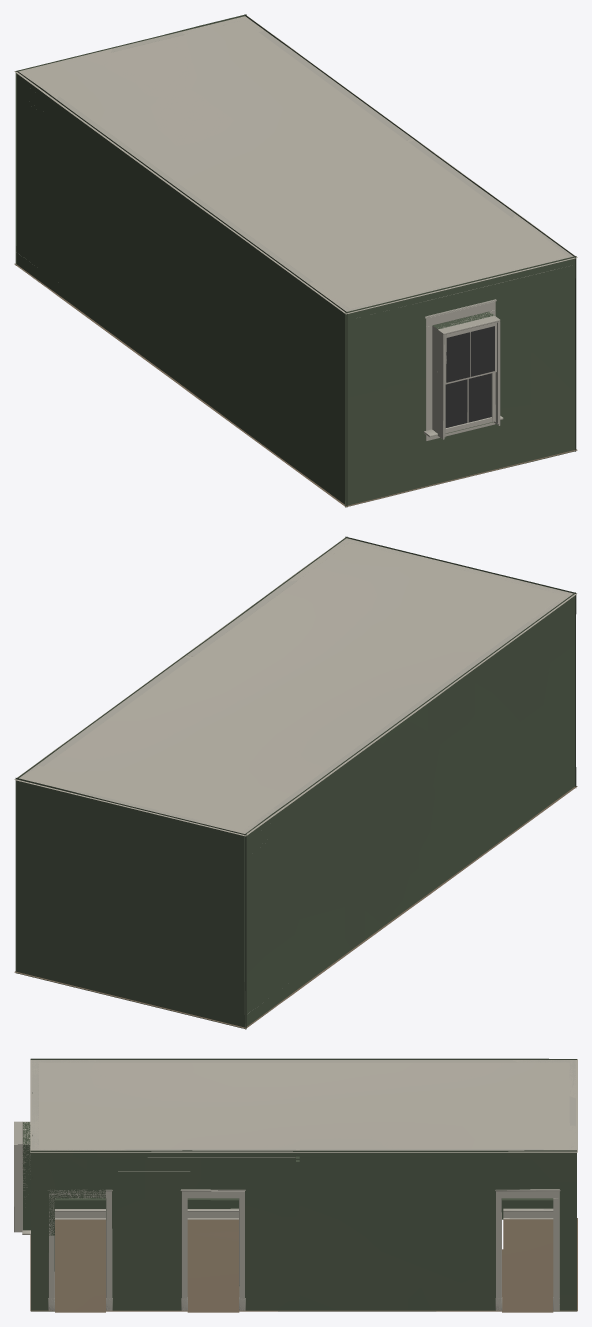
File: house_upper_hall.glb
The picture shows the model from 3 angles, top to bottom: view 1: azimuth 30°, elevation 25°; view 2: azimuth 150°, elevation 25°; view 3: azimuth 270°, elevation 25°; orthographic projection. The views are drawn at different scales.
Visible parts, largest first — view 1: U1, U1_glass_O_U1_S; view 2: U1; view 3: U1.
Boxes of the visible parts, <box> form: U1: <box>14,14,577,507</box>; U1_glass_O_U1_S: <box>445,326,494,427</box>; U1: <box>14,536,577,1029</box>; U1: <box>14,1058,577,1312</box>.
Bounding box in the file's own units: 3.71 × 2.95 × 9.33.
